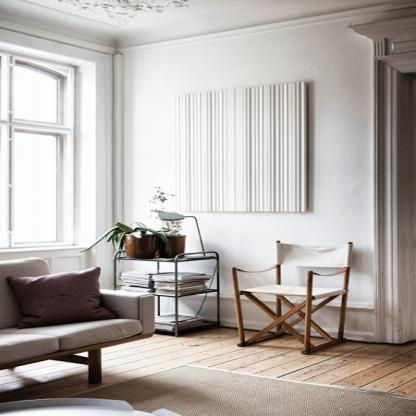chair: (228, 229, 363, 362)
light: (155, 207, 211, 256)
sofa: (0, 252, 164, 389)
table: (111, 250, 222, 334)
